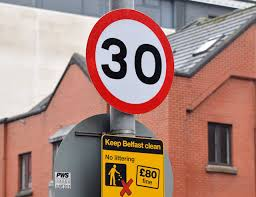Speed_limit_30km: (84, 9, 175, 113)
